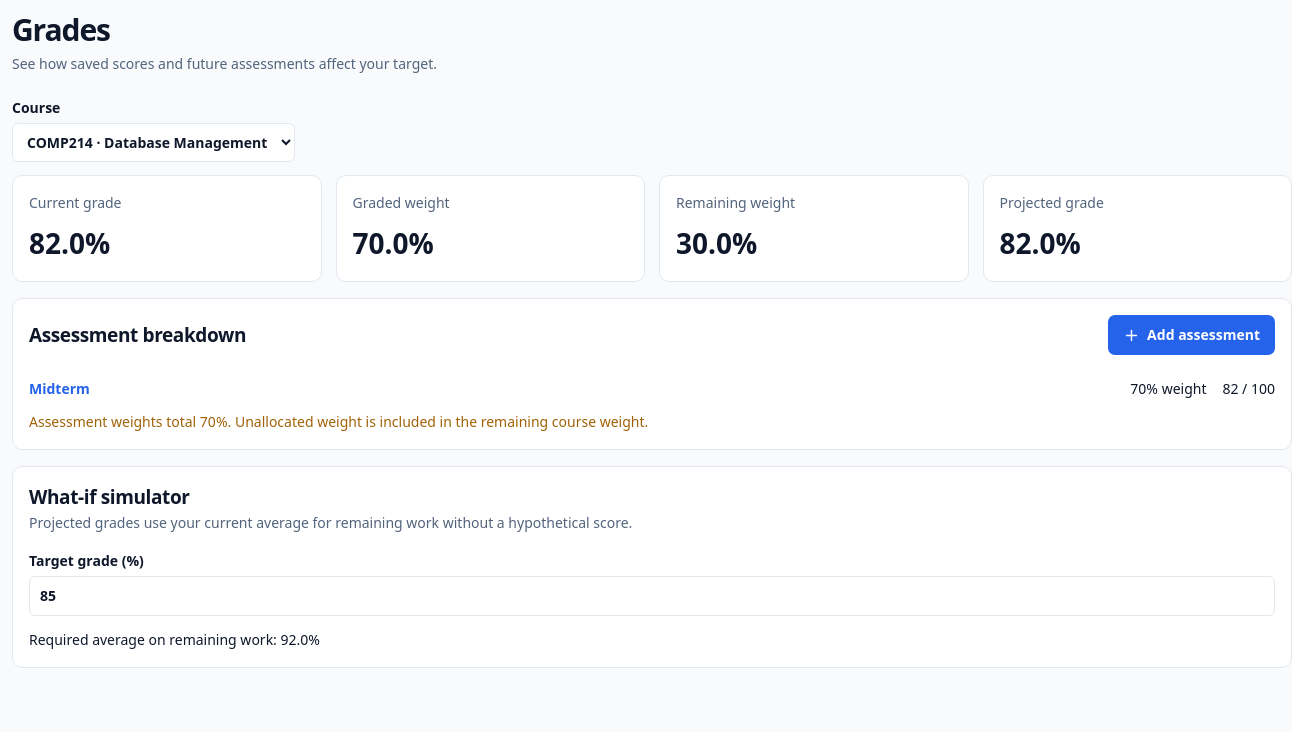
renders a saved grade and updates the required average without saving
The image size is (1292, 732).
Check: the text "82.0%" below "Current grade" is shown, box left=29, top=224, right=110, bottom=262
Check: the text "Required average on remaining work: 92.0%" is shown, box left=29, top=630, right=320, bottom=649
Replace the text in the number field labelled "Target grade (%)" with "99" at (652,596), box left=29, top=576, right=1275, bottom=616
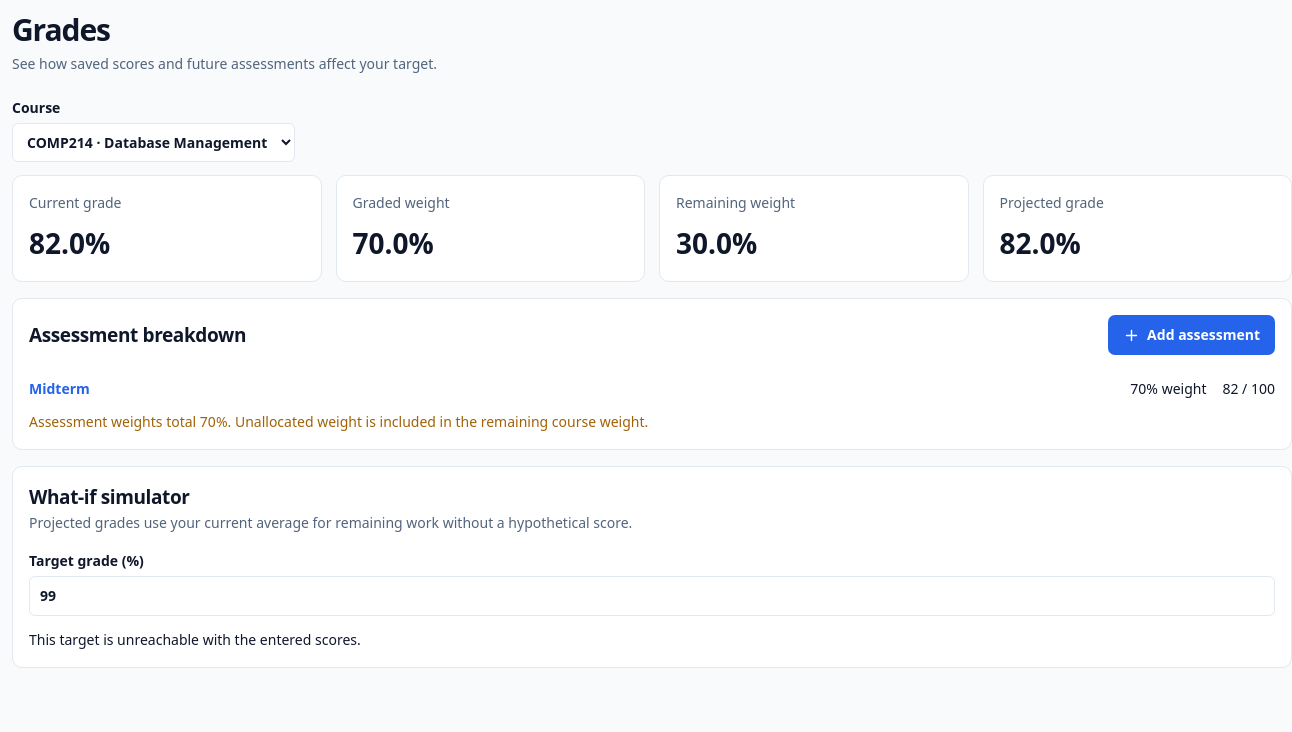
Check: the text "This target is unreachable with the entered scores." is shown, box left=29, top=630, right=361, bottom=649
